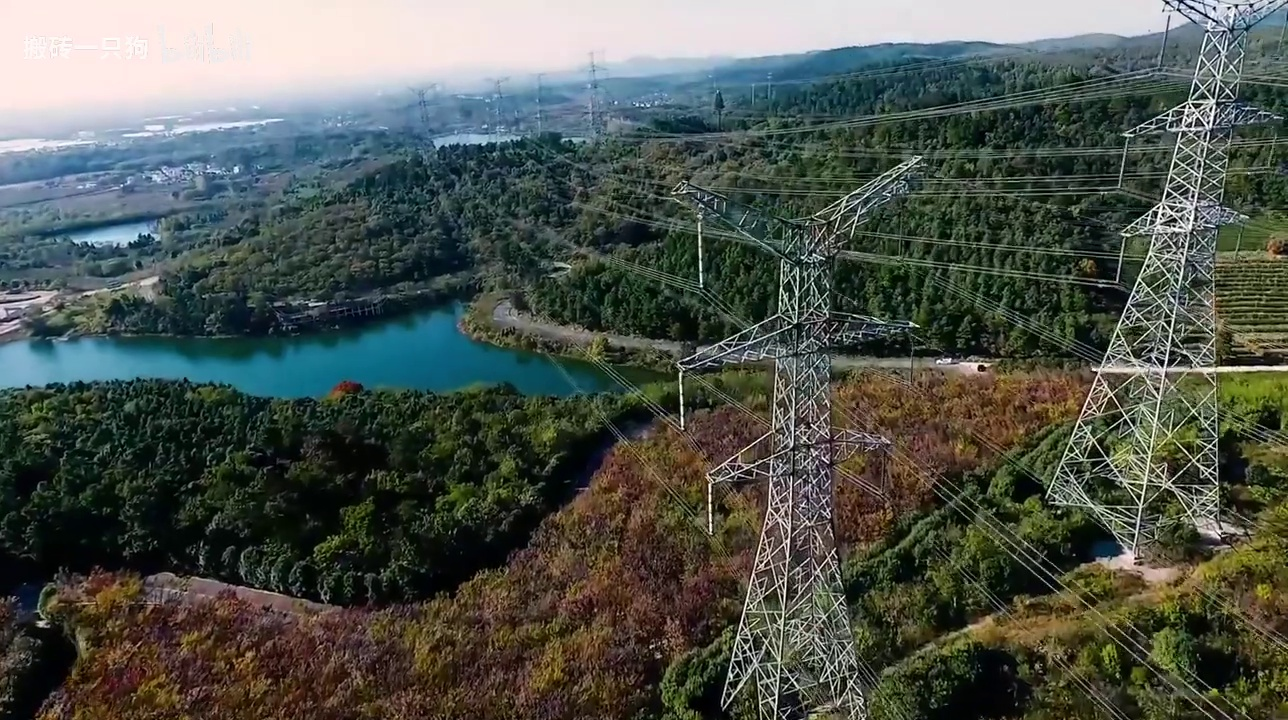tower_body: (635, 142, 961, 720)
tower_foot: (713, 555, 876, 719)
tower_head: (654, 151, 952, 276)
